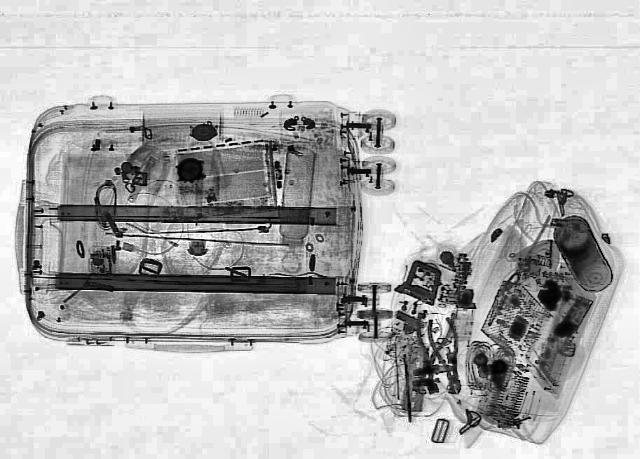Pliers: (420, 316, 474, 394), (407, 314, 457, 392)
